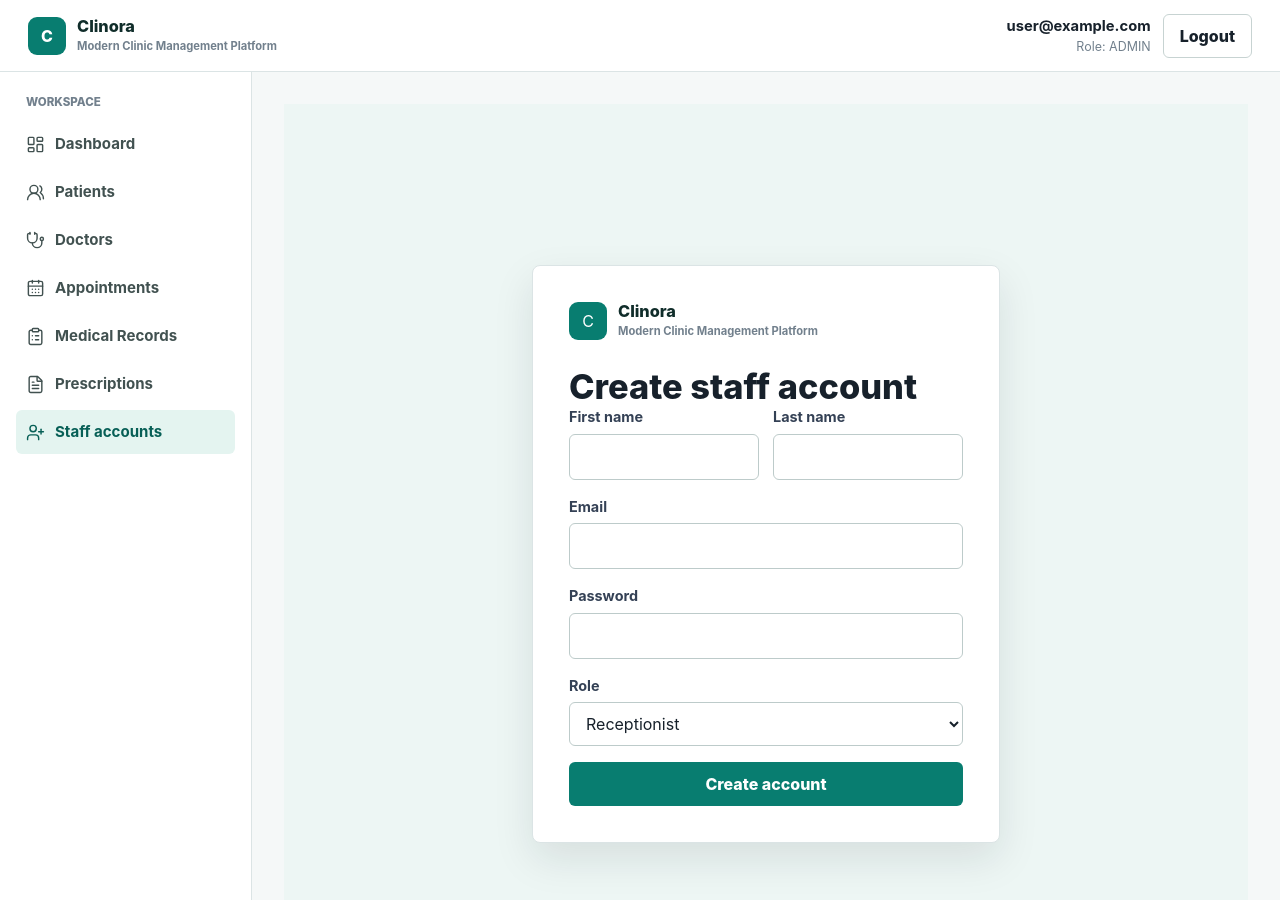
it: RegisterPage › validates registration input
Click the button "Create account" at (766, 784), box [569,762,963,806]
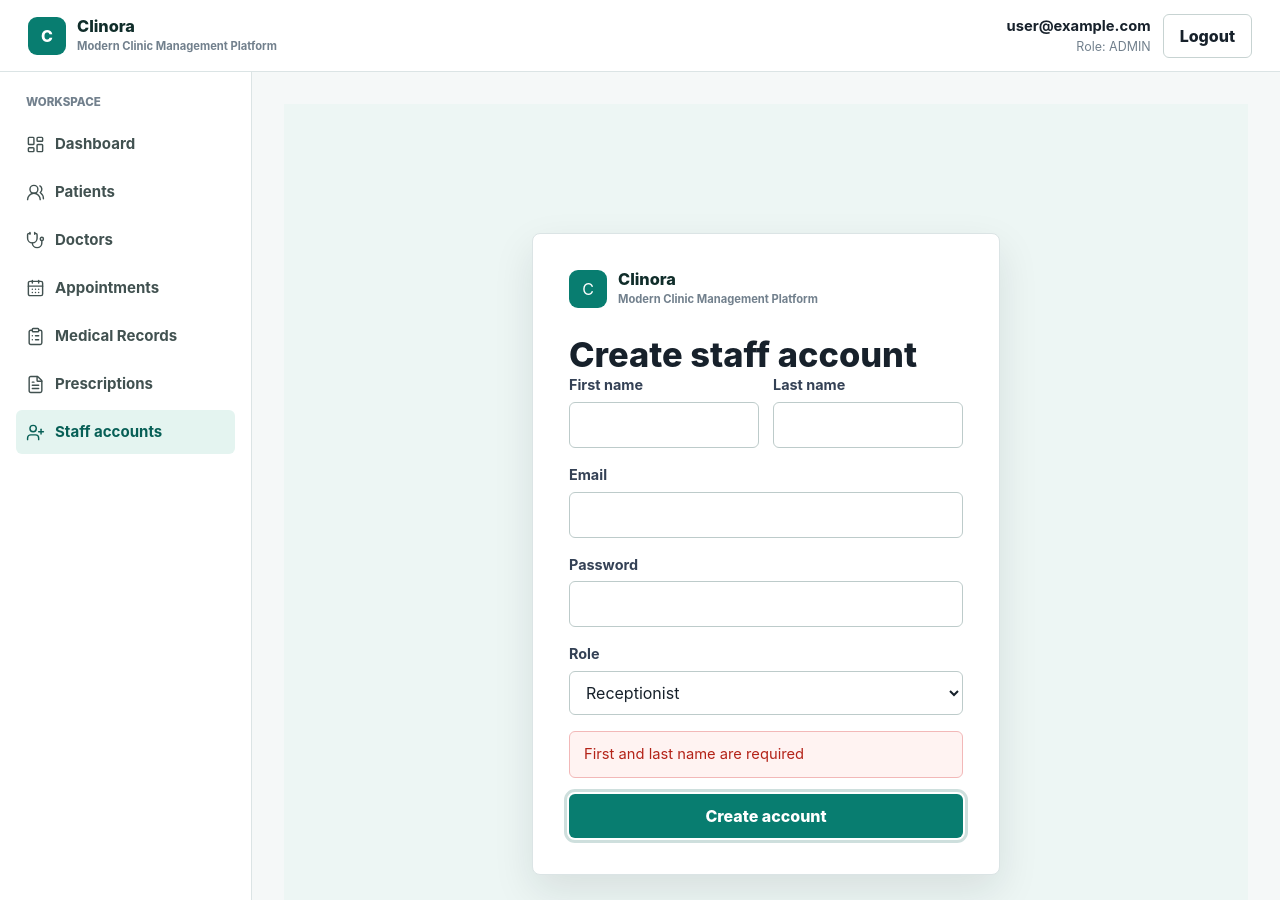
Check: the message reads "First and last name are required", box [584,745,804,763]
